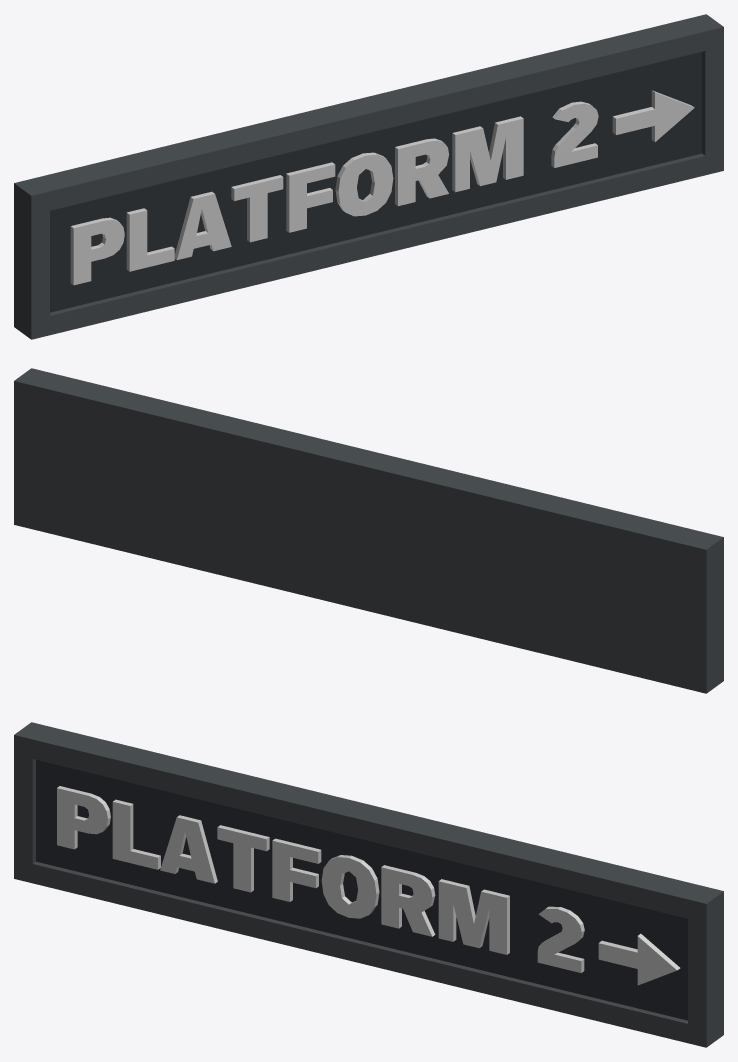
File: Platform_02.fbx
3 views of the same model, one above another, from view 1: azimuth 30°, elevation 25°; view 2: azimuth 150°, elevation 25°; view 3: azimuth 330°, elevation 25° (orthographic).
Visible parts, largest first — view 1: Platform_02; view 2: Platform_02; view 3: Platform_02.
Part boxes in pixels (bbox=[...]): Platform_02: bbox=[14, 14, 723, 339]; Platform_02: bbox=[14, 368, 723, 693]; Platform_02: bbox=[14, 722, 723, 1047].
Bounding box in the file's own units: 162 × 32.16 × 7.1.
